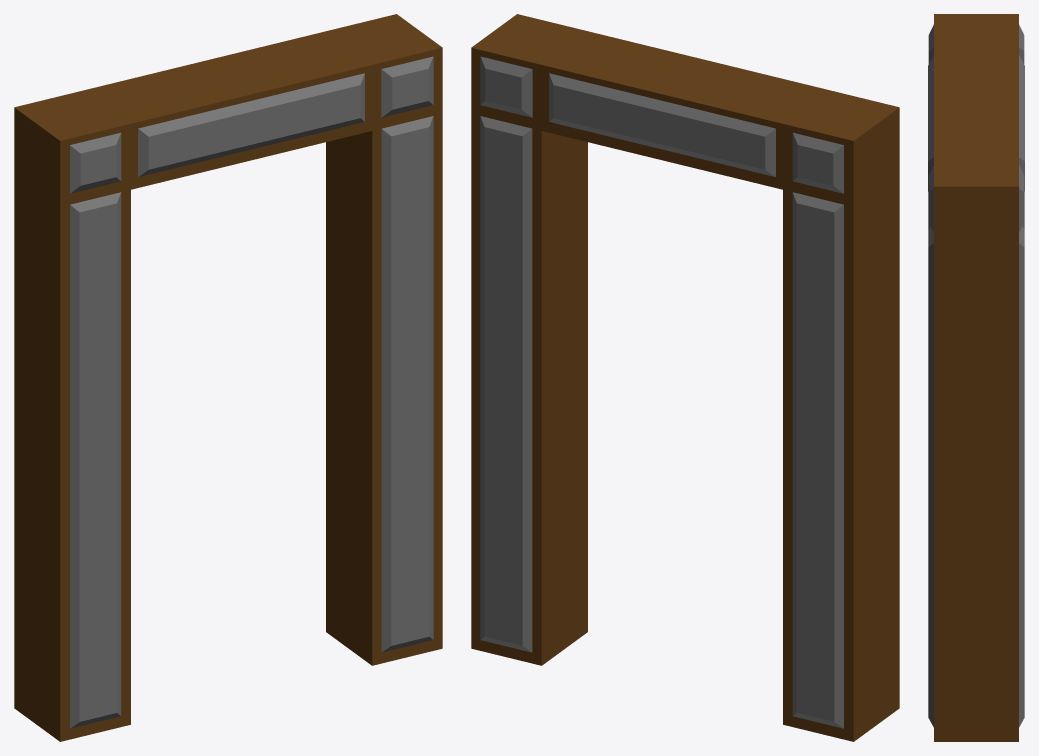
File: doorFrame.fbx
3 renders of one model, left to right at view 1: azimuth 30°, elevation 25°; view 2: azimuth 150°, elevation 25°; view 3: azimuth 270°, elevation 25°, orthographic. The views are drawn at different scales.
Parts seen in each view (by area): view 1: DoorFrame; view 2: DoorFrame; view 3: DoorFrame.
Boxes of the visible parts, x1,y1,x2,y2 form: DoorFrame: (14,14,442,741); DoorFrame: (471,14,899,741); DoorFrame: (928,14,1024,741).
Size of the model in its own units: 176 by 41.74 by 265.
